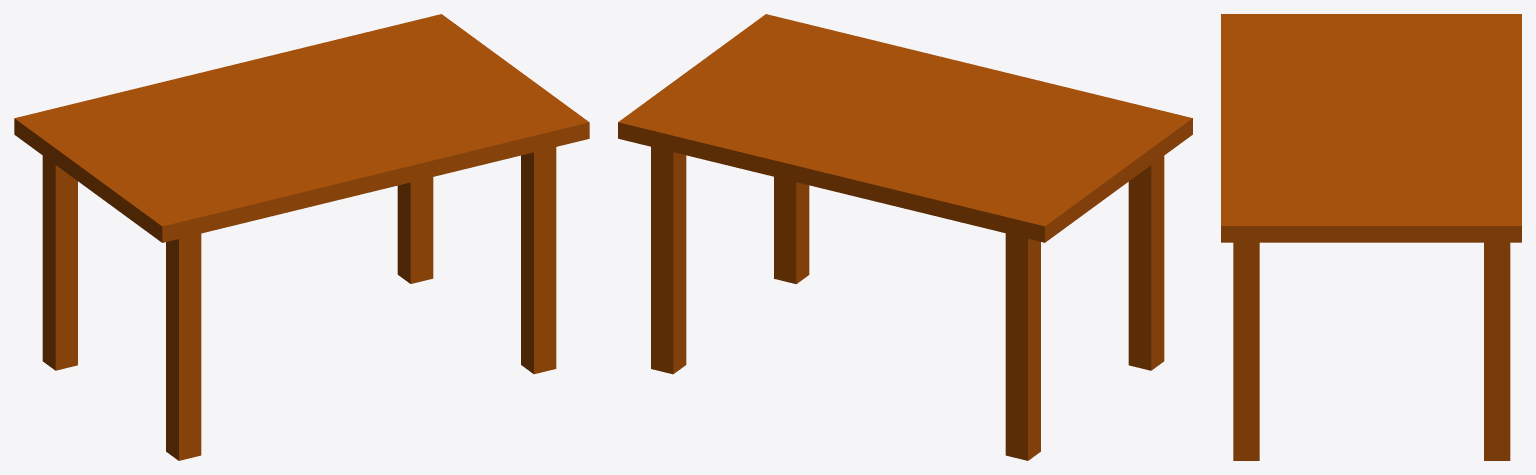
The model's file is meja.glb.
The picture shows the model from 3 angles, left to right: view 1: azimuth 30°, elevation 25°; view 2: azimuth 150°, elevation 25°; view 3: azimuth 270°, elevation 25°; orthographic projection.
Visible parts, largest first — view 1: Cube.082; view 2: Cube.082; view 3: Cube.082.
Boxes of the visible parts, box(x1,y1,x2,y2) form: Cube.082: box(14, 14, 589, 460); Cube.082: box(618, 14, 1192, 460); Cube.082: box(1221, 14, 1521, 460).
Size of the model in its own units: 9.23 by 5.05 by 5.54.
